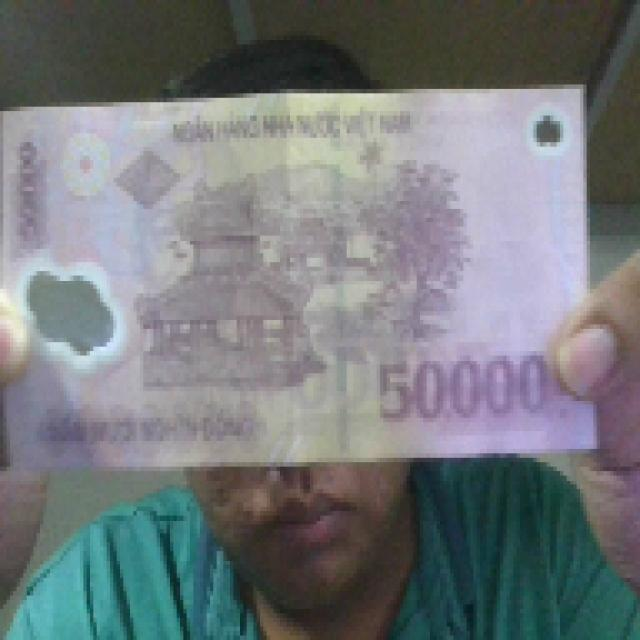50 000 VND: (0, 80, 603, 471)
